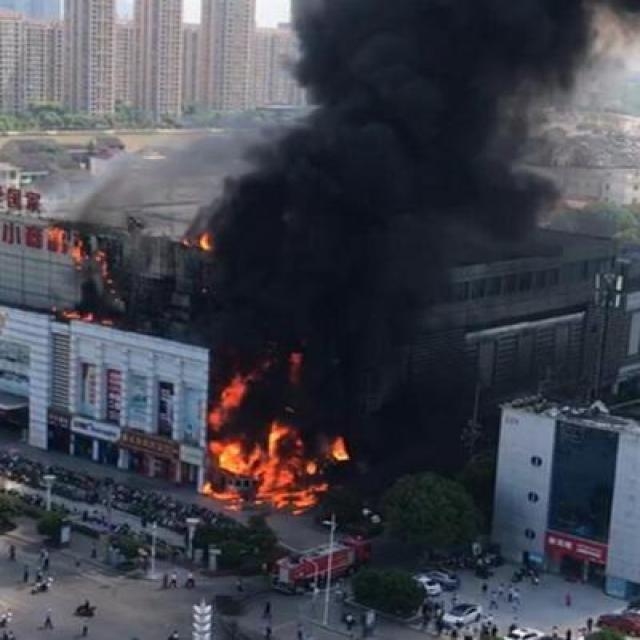fire: (206, 353, 352, 516), (29, 213, 91, 259), (54, 289, 104, 327), (181, 220, 208, 251)
smoke: (204, 8, 596, 334)
